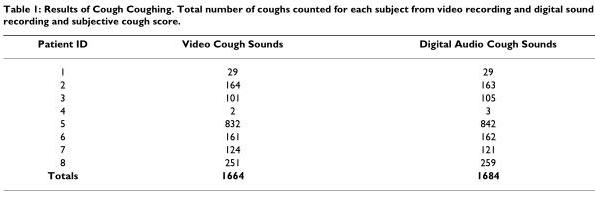table: (36, 36, 555, 180)
table column: (133, 36, 350, 180), (350, 36, 555, 180), (36, 36, 133, 180)
table column header: (36, 36, 555, 57)
table row: (36, 36, 555, 57), (36, 57, 555, 77), (36, 77, 555, 90), (36, 90, 555, 103), (36, 103, 555, 116), (36, 116, 555, 129), (36, 129, 555, 142), (36, 142, 555, 155), (36, 155, 555, 168), (36, 168, 555, 180)
